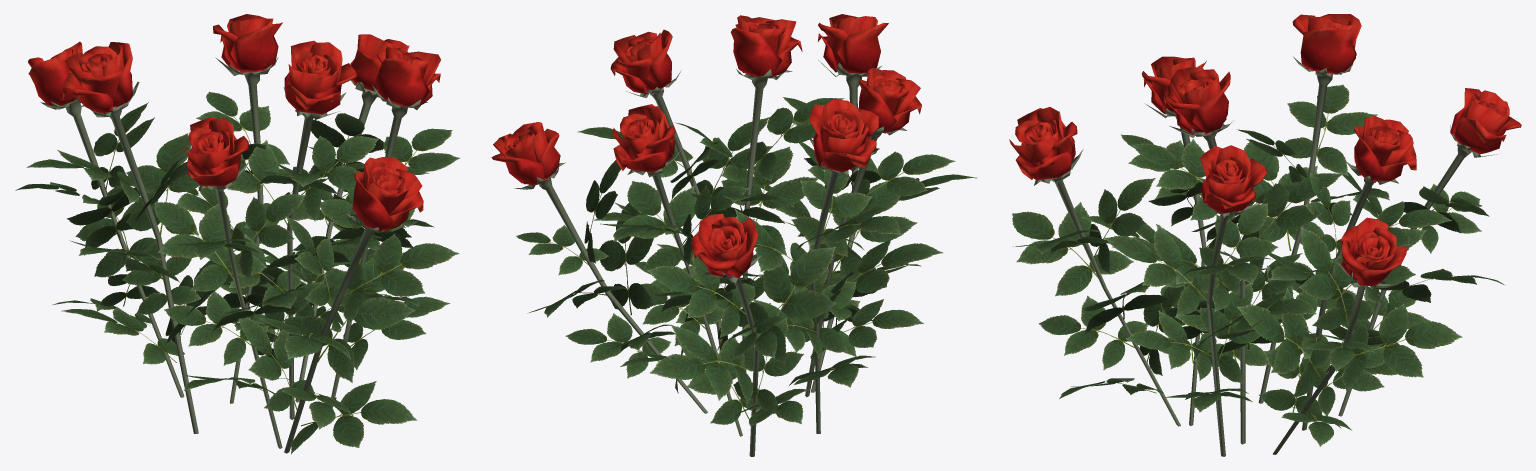
The model's file is roses-bush_red_10k.gltf.
3 views of the same model, side by side, from view 1: azimuth 30°, elevation 25°; view 2: azimuth 150°, elevation 25°; view 3: azimuth 270°, elevation 25° (orthographic). The views are drawn at different scales.
Visible parts, largest first — view 1: roses-bush_red_10k; view 2: roses-bush_red_10k; view 3: roses-bush_red_10k.
Part boxes in pixels (bbox=[...]): roses-bush_red_10k: bbox=[15, 14, 459, 454]; roses-bush_red_10k: bbox=[491, 14, 976, 456]; roses-bush_red_10k: bbox=[1009, 14, 1521, 456].
Bounding box in the file's own units: 0.3953 × 0.3607 × 0.4517.
3 materials, 2 textured.
